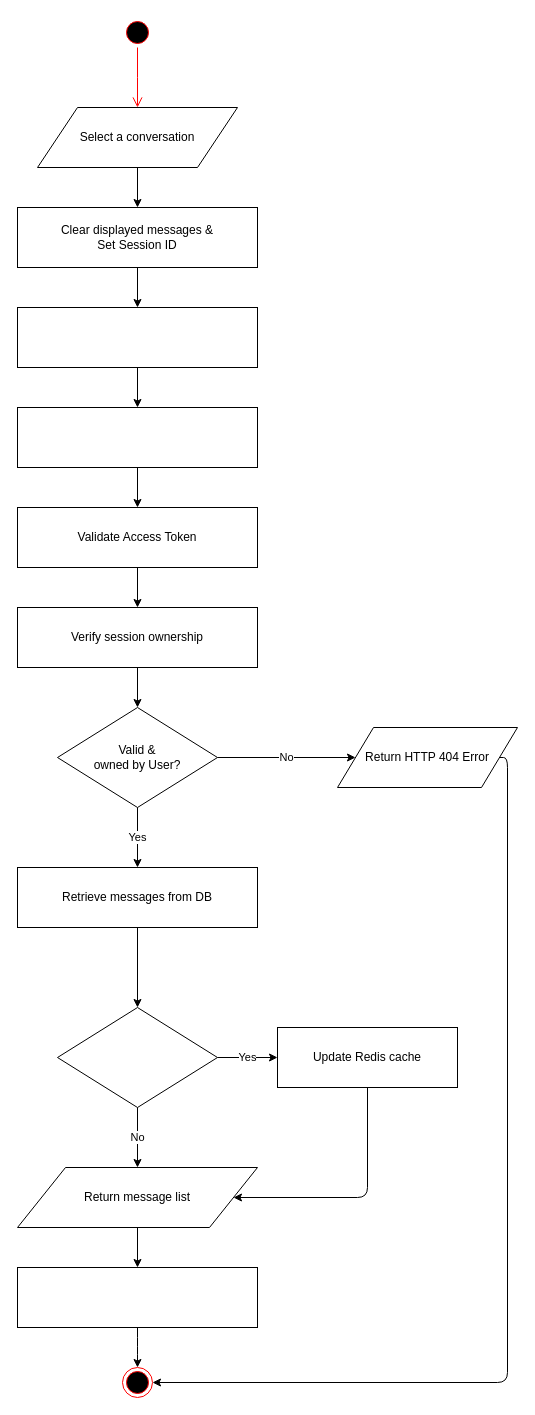
The diagram is 535 pixels wide and 1415 high, and some of its shapes have lost their labels. Each missing label, with the centre of its shape:
"Display messages on UI" goes at (137,1297).
"Messages exist?" goes at (137,1057).
"Refresh session list" goes at (137,337).
"Request session messages" goes at (137,437).
